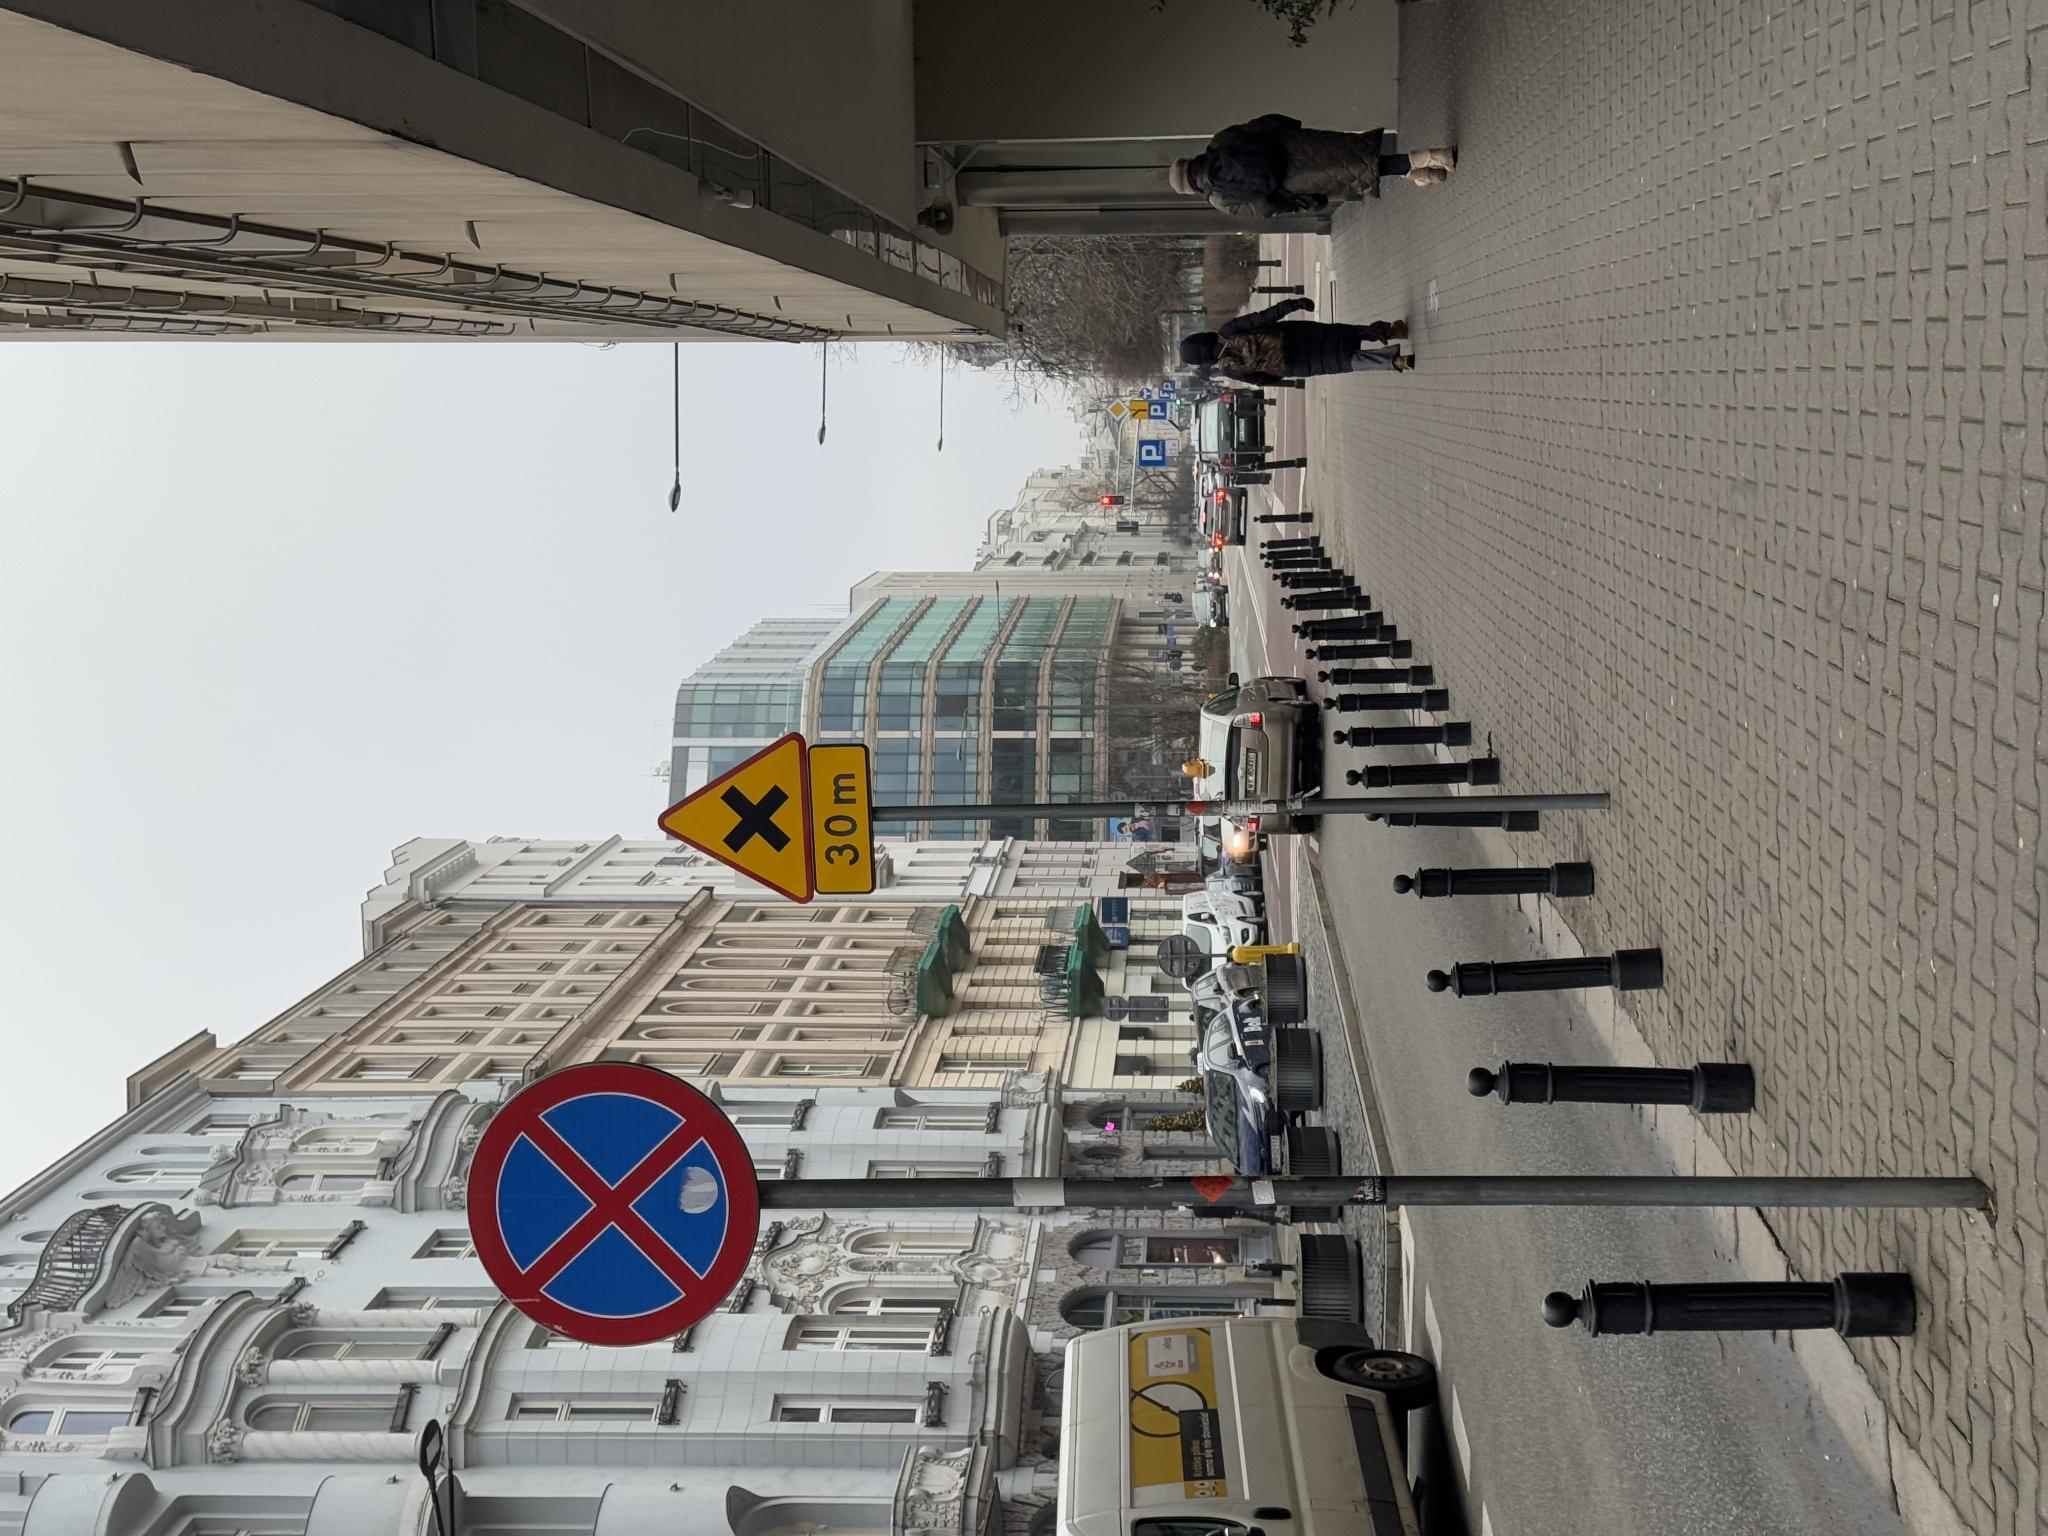information: (1069, 1139, 1097, 1165), (1116, 1105, 1138, 1129), (1116, 1150, 1134, 1167)
mandatory: (1135, 1141, 1148, 1152)
other: (642, 810, 795, 874), (1069, 1165, 1097, 1178), (1116, 1131, 1135, 1149)
prohibitory: (189, 465, 476, 763)
warning: (631, 653, 805, 810)
